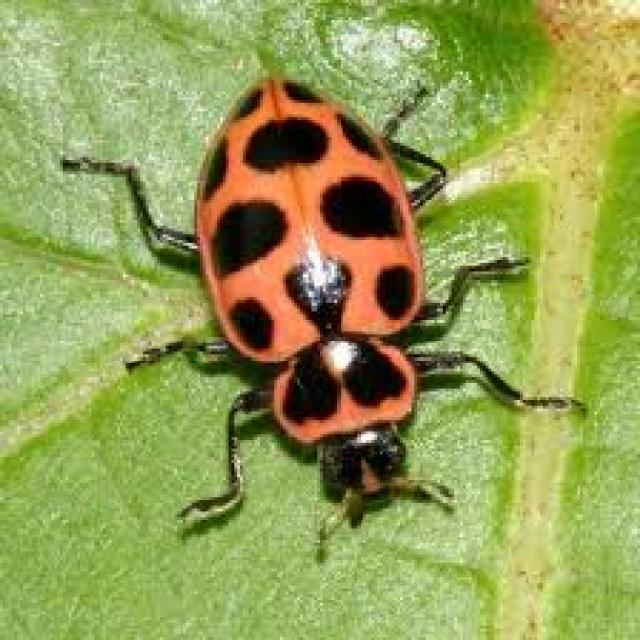bug: (67, 65, 596, 578)
